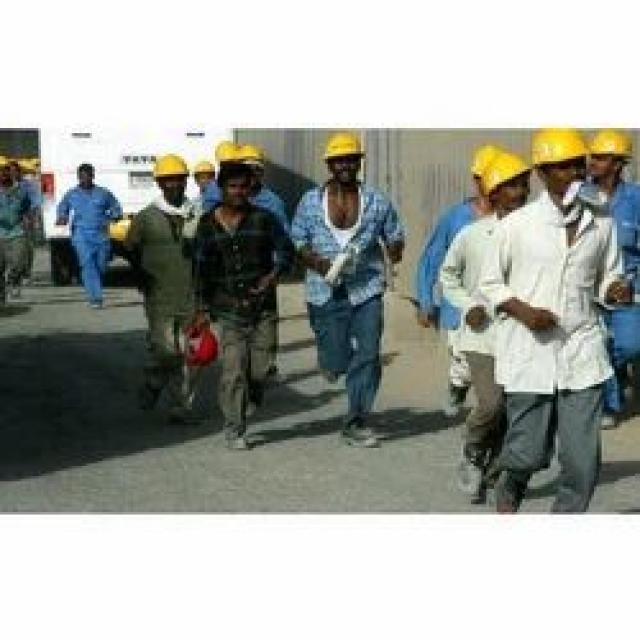safety_helmet: (463, 138, 534, 197), (524, 120, 586, 174), (315, 122, 374, 171), (209, 133, 276, 176), (583, 122, 637, 166), (143, 145, 194, 187)
